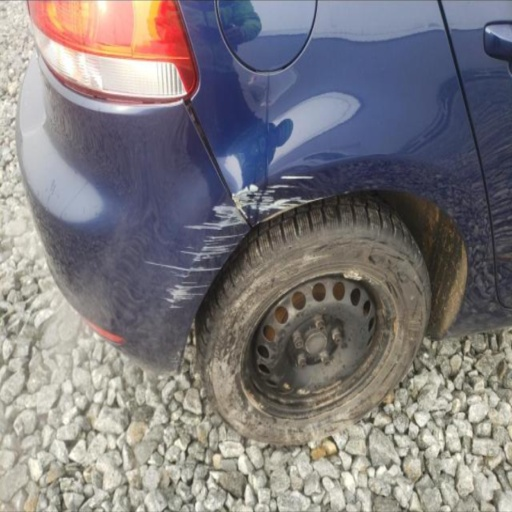scratch: (142, 183, 336, 317), (279, 174, 316, 179)
